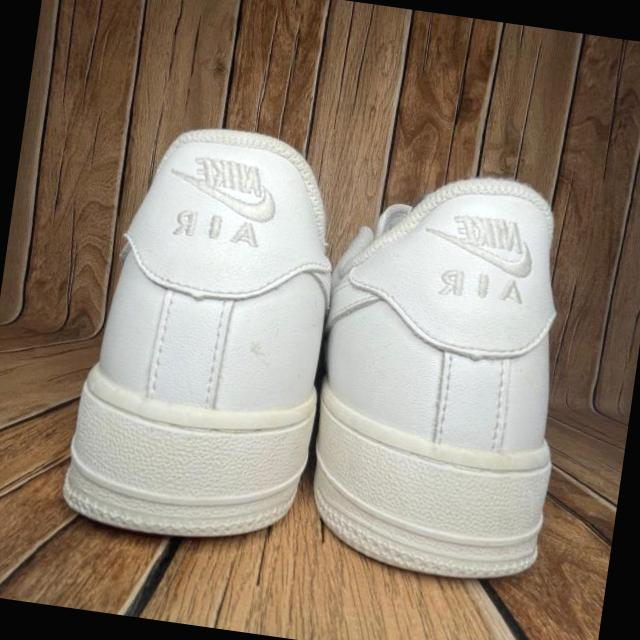nike_fake_airforce: (278, 144, 597, 596), (55, 109, 358, 557)
